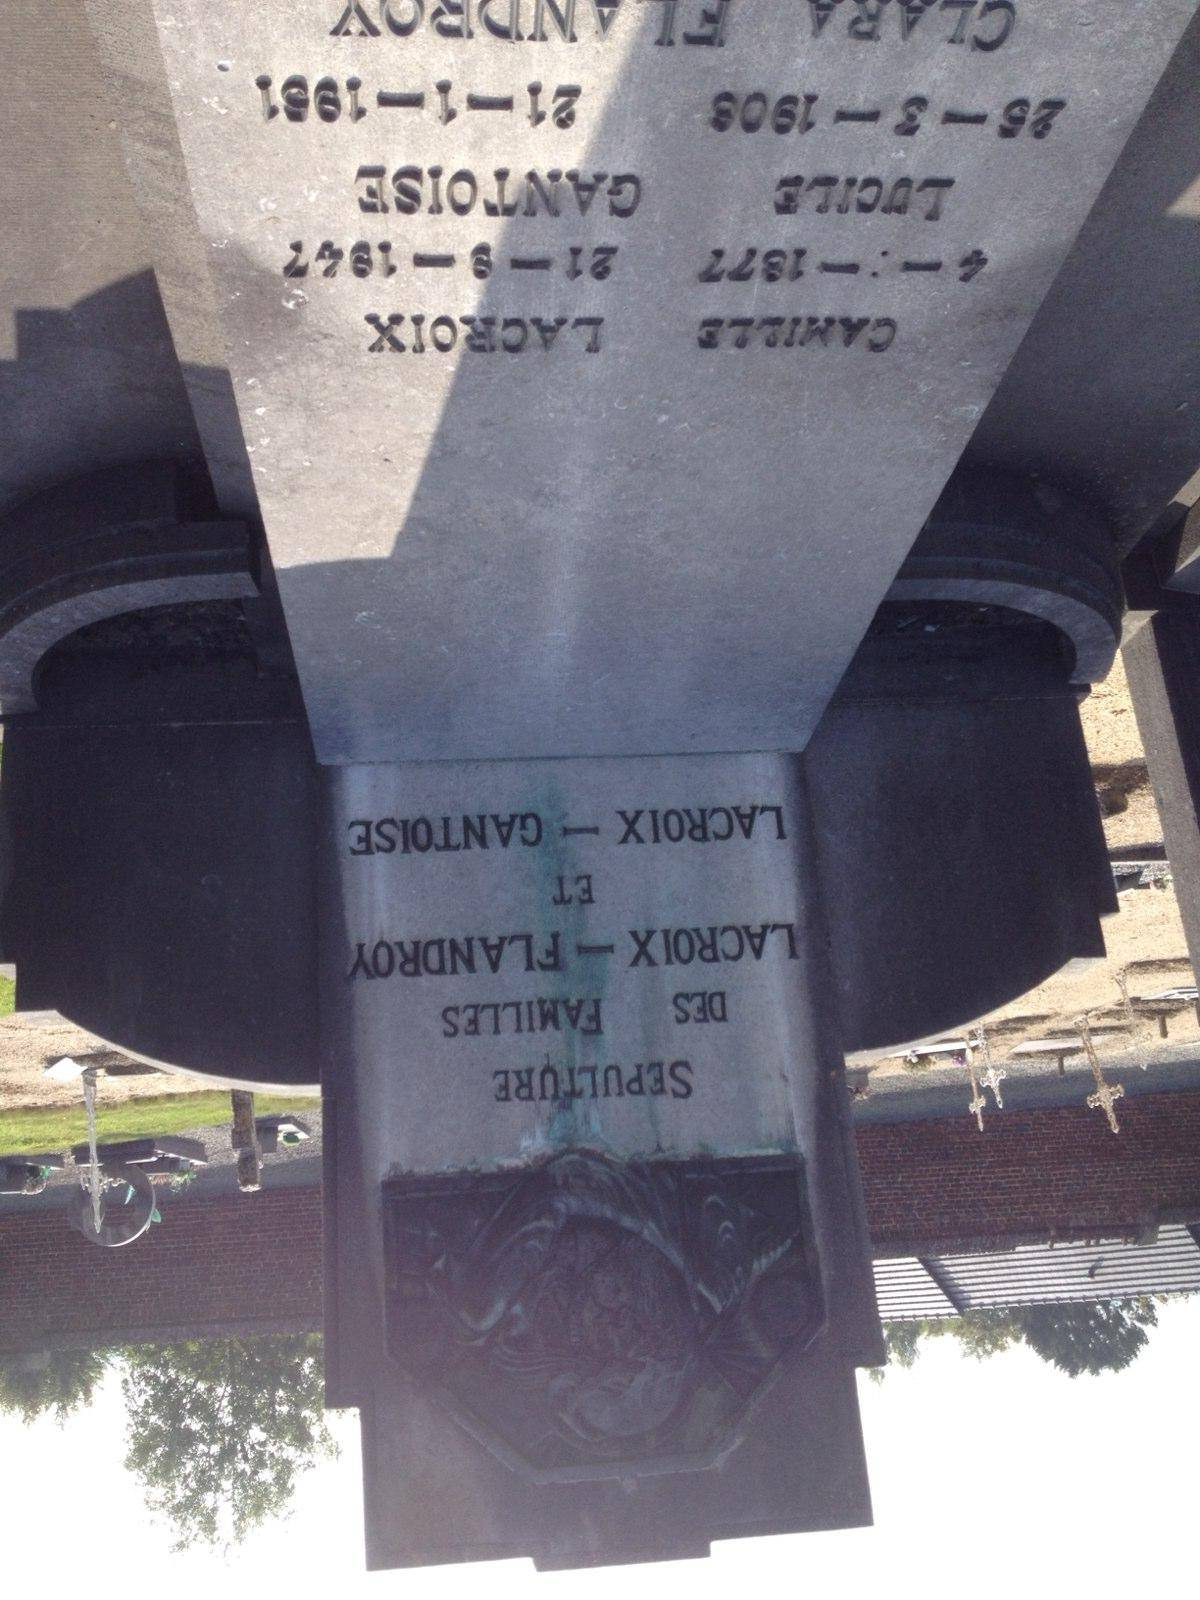vault: (0, 31, 1065, 1600)
